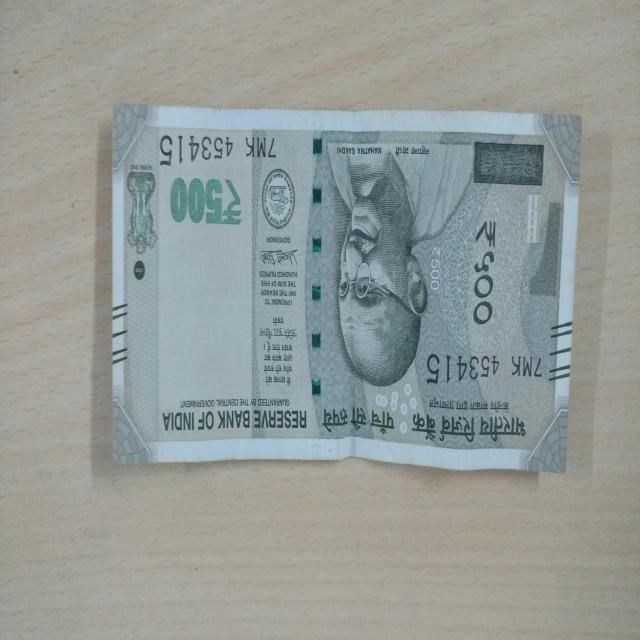Currency: (96, 99, 586, 487)
